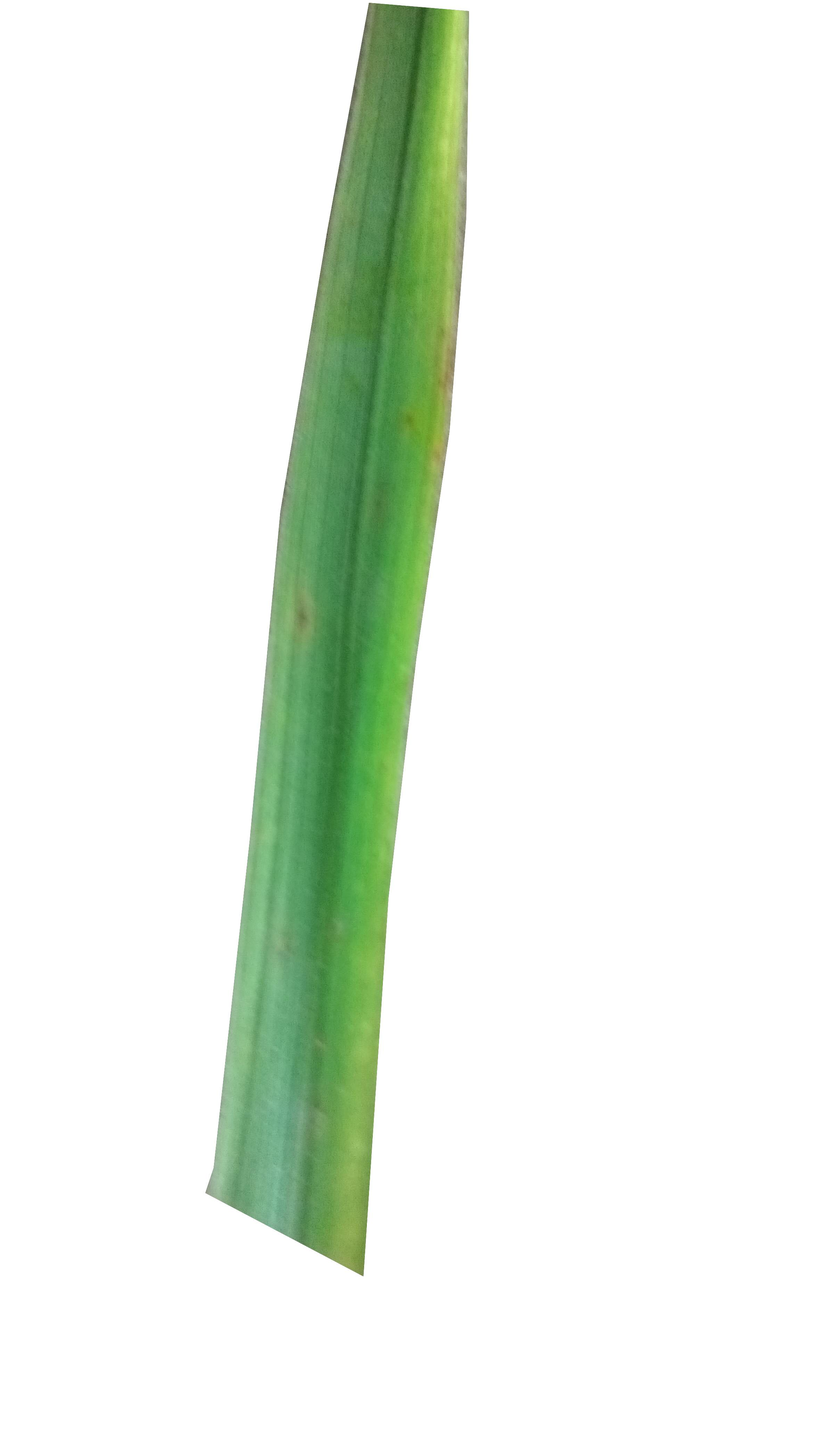Tungro: (285, 10, 466, 1279)
